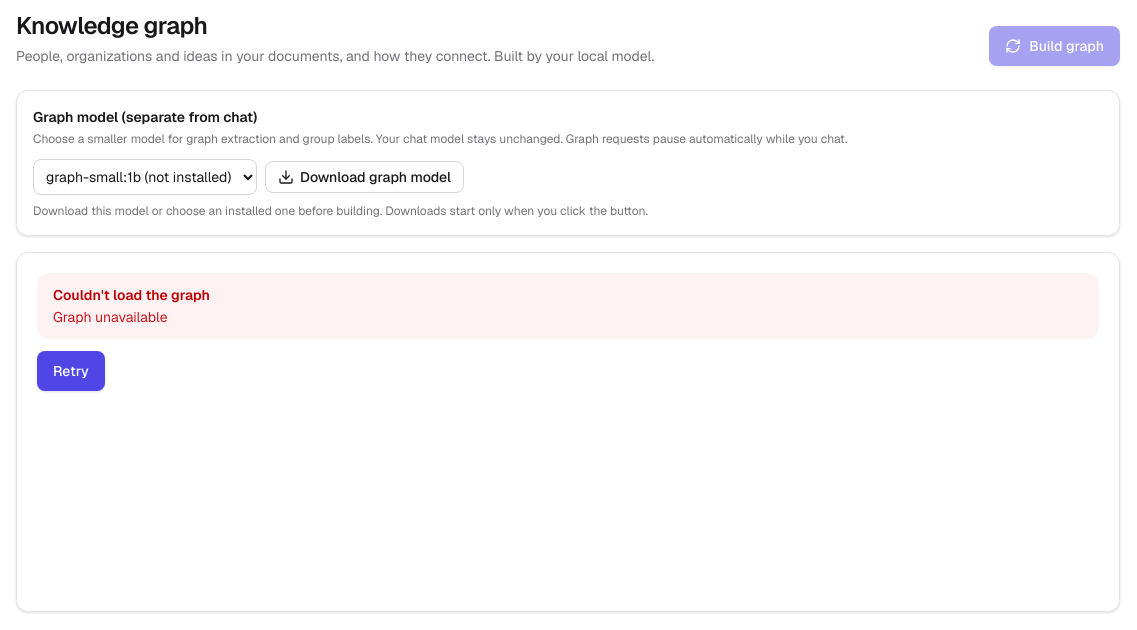
Test: shows graph GET failures instead of an empty graph and allows retry
The image size is (1137, 630).
Expected: the text "No graph yet" is not shown
Click the button "Retry" at [71, 371], box [37, 351, 105, 391]
Wait 1 ms
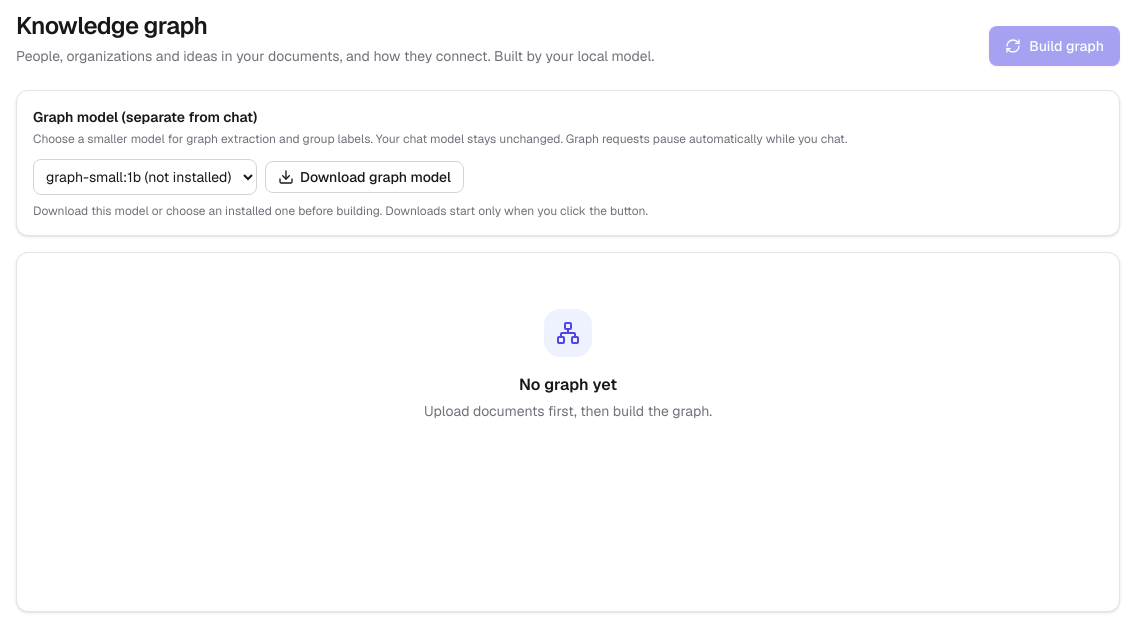
Now the text "No graph yet" is shown, box [519, 373, 617, 397]
Now the text "Couldn't load the graph" is gone
